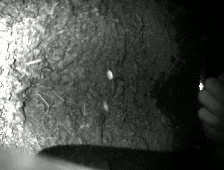corn: (107, 69, 113, 80), (103, 101, 109, 111)
